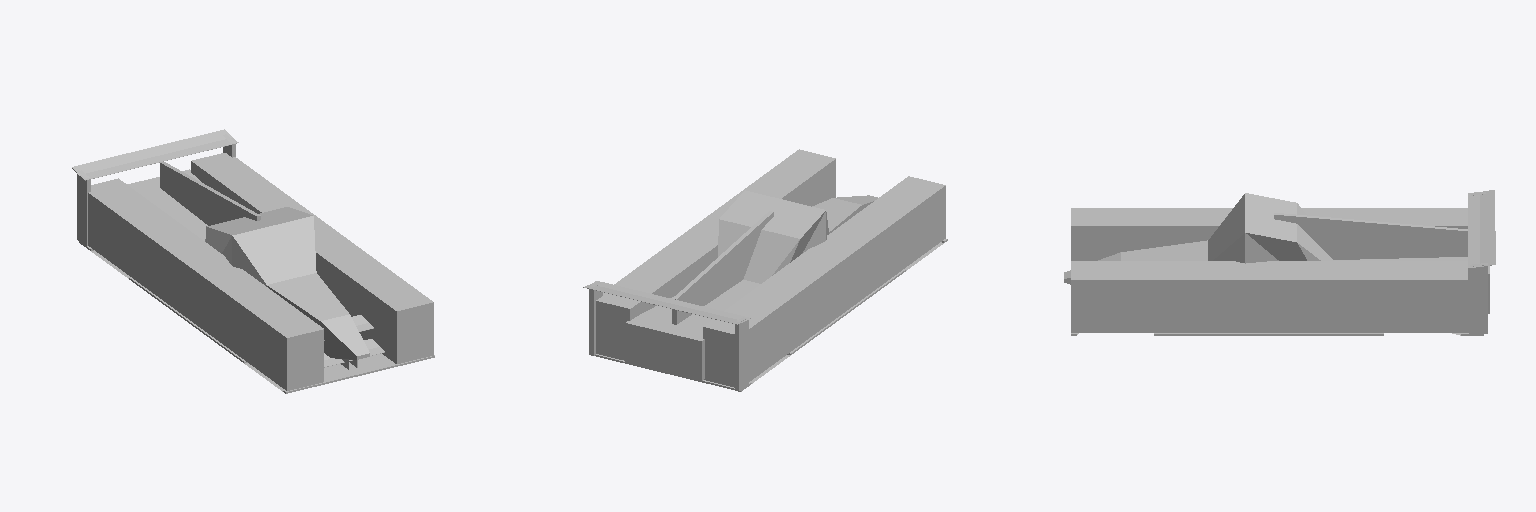
File: Strawberry_COLL.obj
3 views of the same model, side by side, from view 1: azimuth 30°, elevation 25°; view 2: azimuth 150°, elevation 25°; view 3: azimuth 270°, elevation 25° (orthographic).
Parts seen in each view (by area): view 1: Mesh1 Union Model; view 2: Mesh1 Union Model; view 3: Mesh1 Union Model.
Part boxes in pixels (bbox=[...]): Mesh1 Union Model: bbox=[72, 129, 434, 393]; Mesh1 Union Model: bbox=[583, 149, 947, 391]; Mesh1 Union Model: bbox=[1064, 190, 1495, 335].
Bounding box in the file's own units: 1.85 × 0.9922 × 4.49.